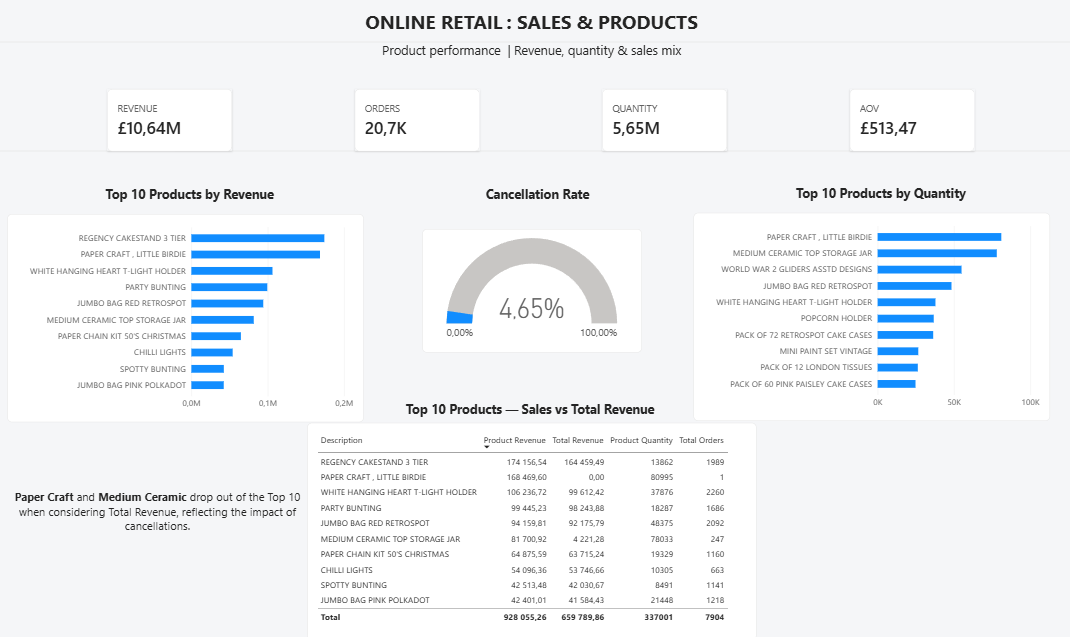

The dashboard page shown, as its layout file describes it:
{"tool":"powerbi","page":{"name":"SALES & PRODUCTS","canvas":[1920,1080],"ordinal":1},"visuals":[{"type":"textbox","box":[0,16.8,1920.4,166.2],"z":0},{"type":"textbox","box":[0,71.5,1920.4,185.1],"z":1000},{"type":"cardVisual","title":"Revenue","fields":{"Data":["Table.Revenue Sales"]},"box":[245.3,152.3,210,105],"z":2000},{"type":"cardVisual","title":"Revenue","fields":{"Data":["Table.Average Order Value"]},"box":[1495.3,152.3,210,105],"z":3000},{"type":"cardVisual","title":"Revenue","fields":{"Data":["Table.Total Orders"]},"box":[662,152.3,210,105],"z":4000},{"type":"cardVisual","title":"Revenue","fields":{"Data":["Table.Total Quantity"]},"box":[1078.7,152.3,210,105],"z":5000},{"type":"textbox","box":[0,313,1920.4,46.5],"z":6000},{"type":"gauge","fields":{"Y":["Table.Cancellation Rate"]},"box":[775.4,386.6,369.2,208],"z":7000},{"type":"textbox","box":[78.5,314.1,1784.6,46.7],"z":8000},{"type":"clusteredBarChart","fields":{"Category":["Table.Description"],"Y":["Table.Product Revenue"]},"box":[78.5,360.7,600,350],"z":9000},{"type":"textbox","box":[44.6,314.1,681.2,46.7],"z":10000},{"type":"clusteredBarChart","fields":{"Category":["Table.Description"],"Y":["Table.Product Quantity"]},"box":[1232.1,359,600,350],"z":11000},{"type":"textbox","box":[1232.1,312.3,630.9,46.7],"z":12000},{"type":"tableEx","fields":{"Values":["Table.Description","Table.Product Revenue","Table.Total Revenue","Table.Product Quantity","Table.Total Orders"]},"box":[581.9,712.5,756.3,367.5],"z":13000},{"type":"textbox","box":[680.5,676.1,552.4,35.4],"z":14000},{"type":"textbox","box":[79.5,824.1,501.5,150.2],"z":15000}]}

Visuals, with their boxes on the page's 1920x1080 design canvas (x1, y1, x2, y2). These are canvas units, not pixel positions in the 1070x637 screenshot, which may show the page scaled, cropped or inside an application window:
textbox: <bbox>0, 17, 1920, 183</bbox>
textbox: <bbox>0, 72, 1920, 257</bbox>
"Revenue" cardVisual: <bbox>245, 152, 455, 257</bbox>
"Revenue" cardVisual: <bbox>1495, 152, 1705, 257</bbox>
"Revenue" cardVisual: <bbox>662, 152, 872, 257</bbox>
"Revenue" cardVisual: <bbox>1079, 152, 1289, 257</bbox>
textbox: <bbox>0, 313, 1920, 360</bbox>
gauge - Table.Cancellation Rate: <bbox>775, 387, 1145, 595</bbox>
textbox: <bbox>78, 314, 1863, 361</bbox>
clusteredBarChart - Table.Description x Table.Product Revenue: <bbox>78, 361, 678, 711</bbox>
textbox: <bbox>45, 314, 726, 361</bbox>
clusteredBarChart - Table.Description x Table.Product Quantity: <bbox>1232, 359, 1832, 709</bbox>
textbox: <bbox>1232, 312, 1863, 359</bbox>
tableEx - Table.Description x Table.Product Revenue: <bbox>582, 712, 1338, 1080</bbox>
textbox: <bbox>680, 676, 1233, 712</bbox>
textbox: <bbox>80, 824, 581, 974</bbox>
